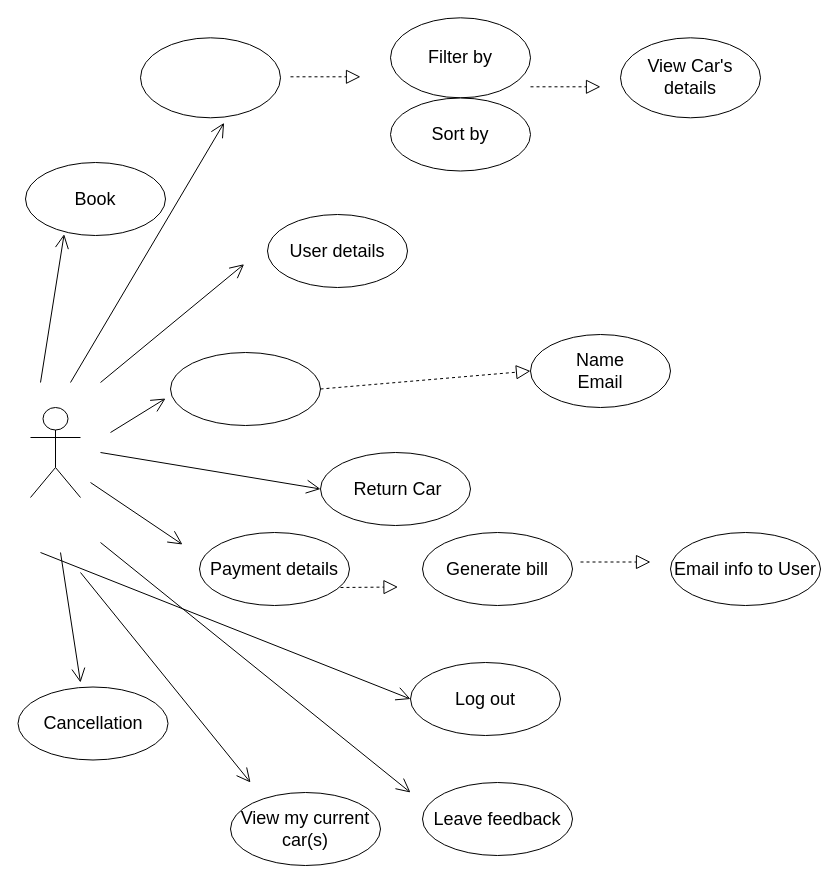
Image size: 838x883. Some labels were removed from this diagram. Here are the shapes that lost their labels. From the top down, the centre of each, then its label:
the point at 210,77: Search by
the point at 245,389: Log in
the point at 55,452: User
